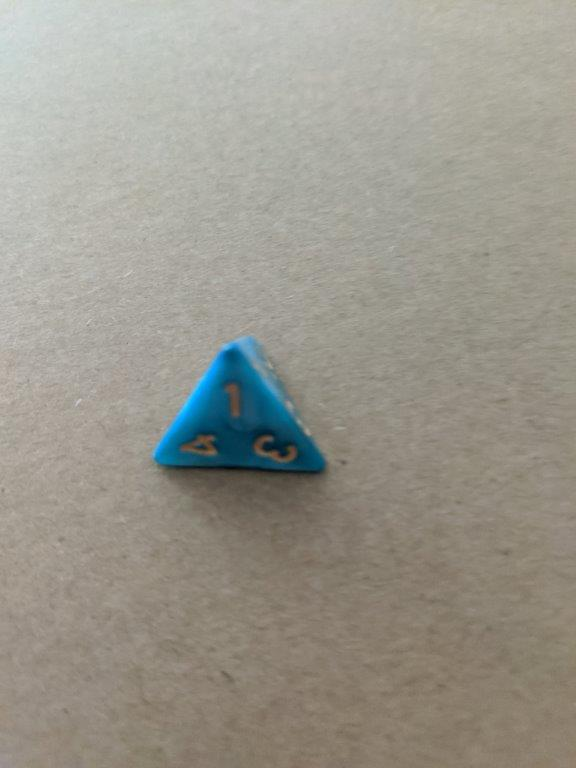d4-1: (149, 333, 331, 483)
